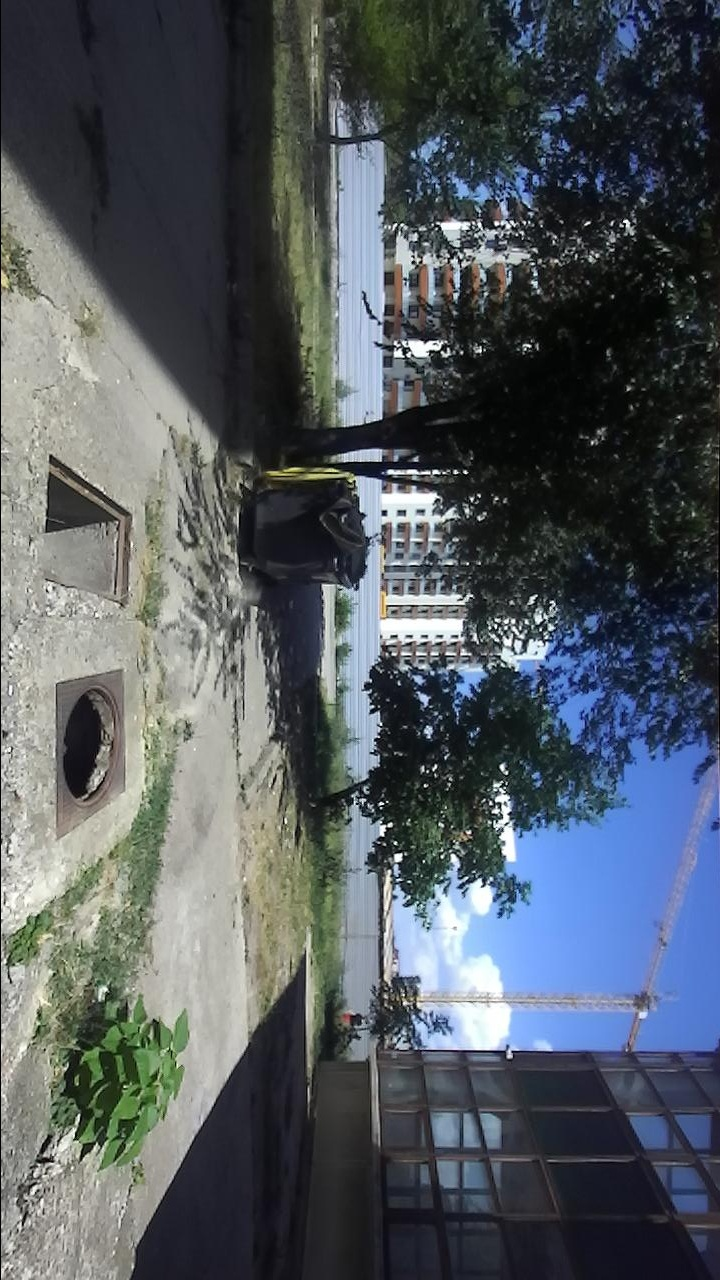drain: (43, 449, 138, 609), (57, 682, 123, 810)
